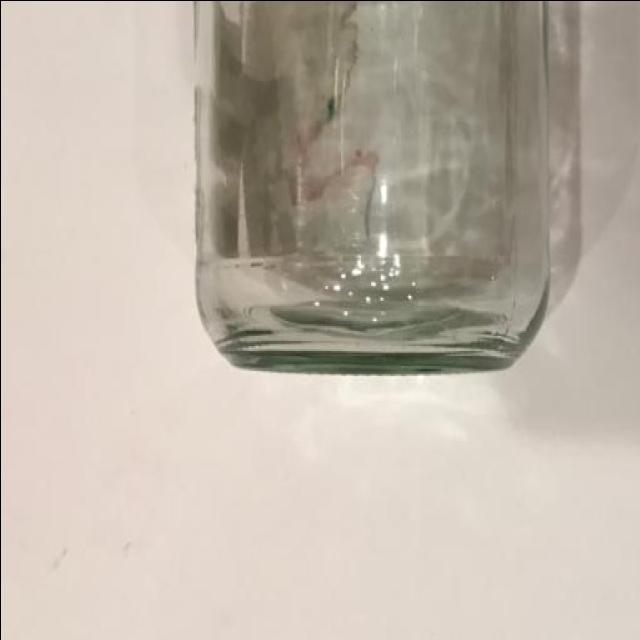glass: (177, 0, 574, 387)
